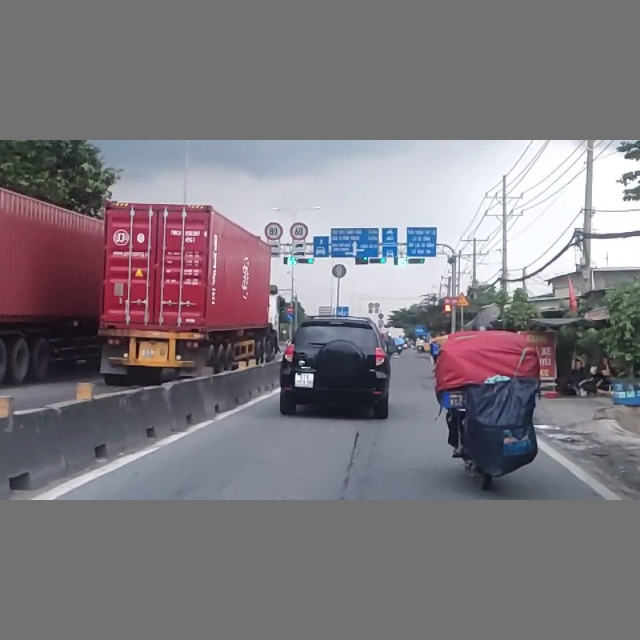P.102: (286, 306, 294, 313)
P.127*60: (289, 221, 309, 242)
P.127*80: (265, 222, 283, 240)
R.302a: (287, 313, 294, 321)
W.245a: (455, 292, 469, 306)
